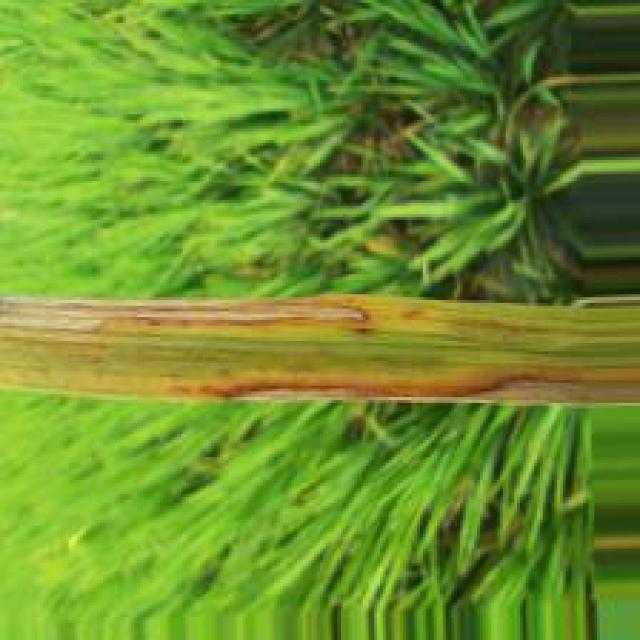Leaf_Blast: (208, 368, 640, 405), (5, 298, 378, 335)
